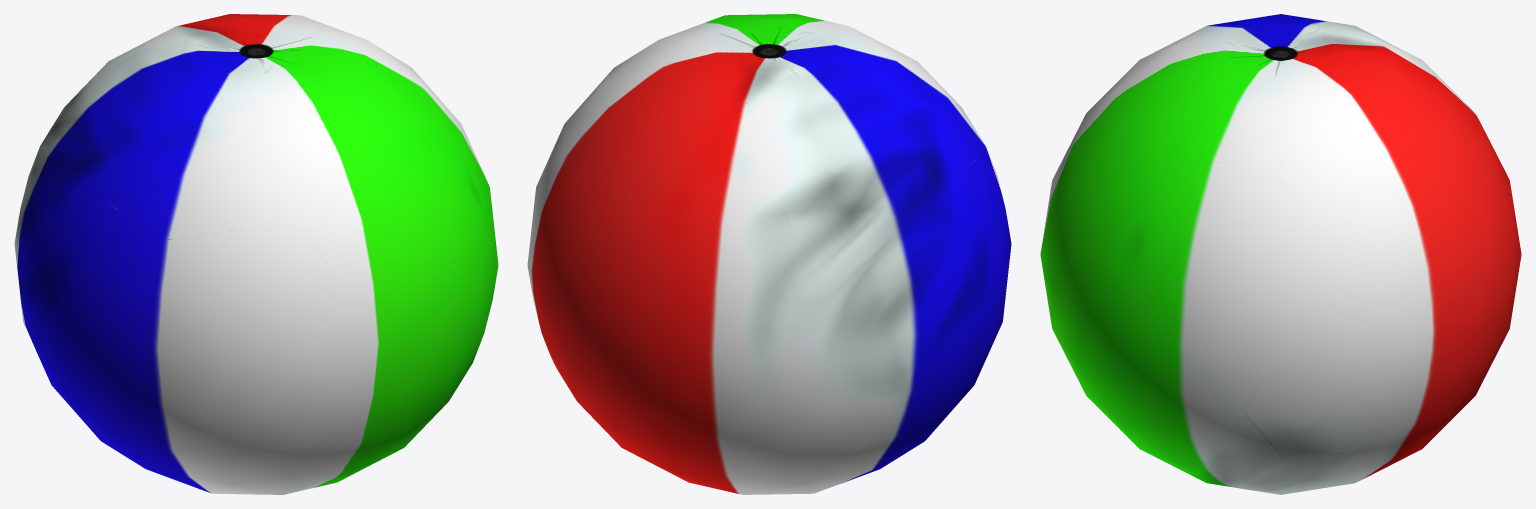
Rendered from ball.gltf.
The picture shows the model from 3 angles, left to right: view 1: azimuth 30°, elevation 25°; view 2: azimuth 150°, elevation 25°; view 3: azimuth 270°, elevation 25°; orthographic projection.
Visible parts, largest first — view 1: Icosphere; view 2: Icosphere; view 3: Icosphere.
Part boxes in pixels (left/top/right/bottom): Icosphere: left=14, top=14, right=498, bottom=494; Icosphere: left=527, top=14, right=1011, bottom=494; Icosphere: left=1040, top=14, right=1521, bottom=494.
Bounding box in the file's own units: 2 × 1.94 × 2.
Materials: 1 (1 with a texture image).
